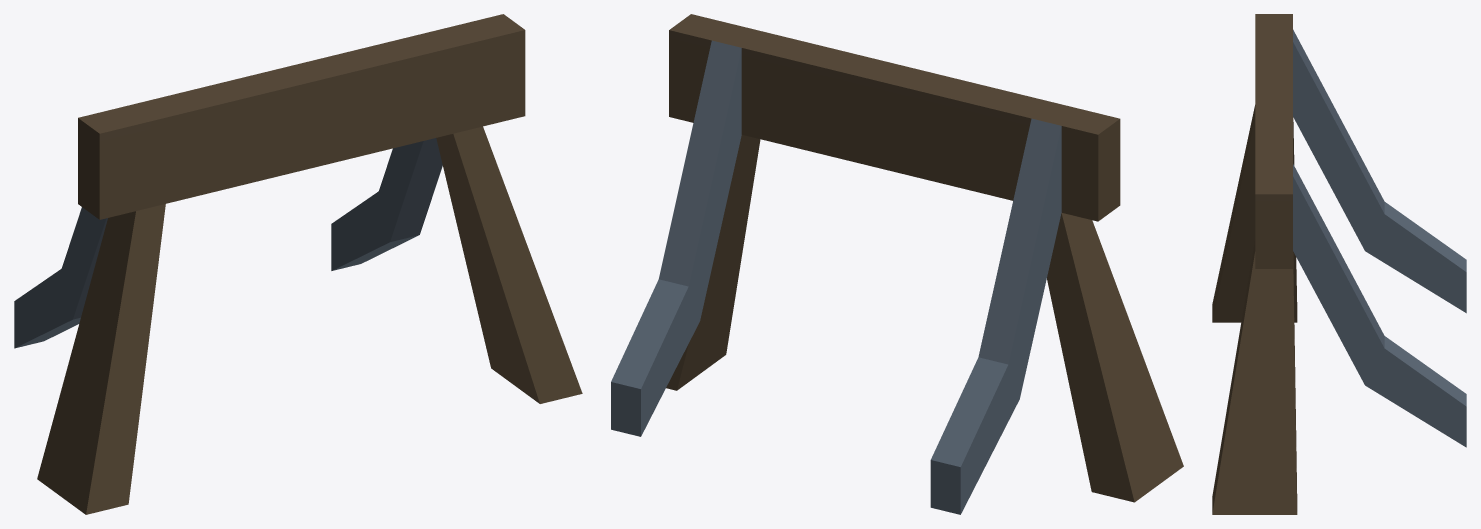
File: RailStopper-03.fbx
3 renders of one model, left to right at view 1: azimuth 30°, elevation 25°; view 2: azimuth 150°, elevation 25°; view 3: azimuth 270°, elevation 25°, orthographic. The views are drawn at different scales.
Parts seen in each view (by area): view 1: RailStopper-03; view 2: RailStopper-03; view 3: RailStopper-03.
Part boxes in pixels (<box>): RailStopper-03: <box>14,14,582,514</box>; RailStopper-03: <box>611,14,1183,514</box>; RailStopper-03: <box>1212,14,1466,514</box>.
Bounding box in the file's own units: 199 × 135 × 102.
